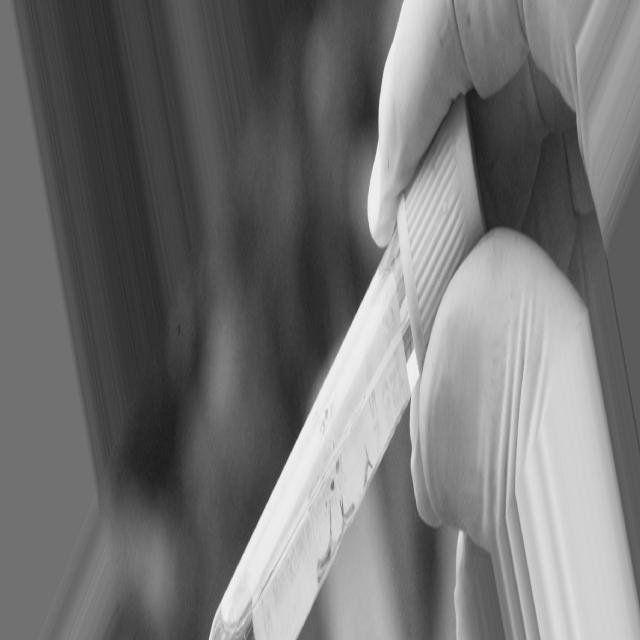larvas: (318, 507, 330, 576), (362, 454, 375, 483), (339, 498, 356, 514)
